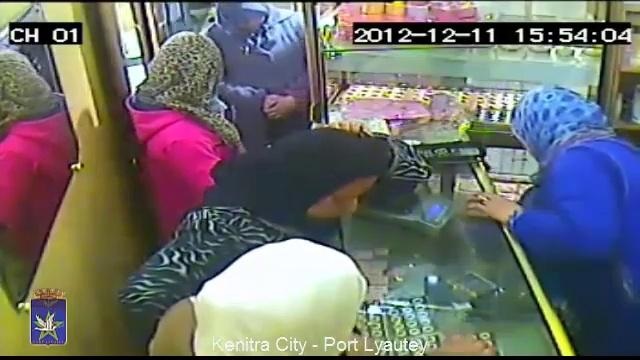Customer-Bagpack: (374, 124, 435, 194)
Regular: (503, 41, 640, 360), (167, 229, 383, 360), (120, 36, 233, 185), (257, 123, 388, 245), (224, 0, 323, 106)
